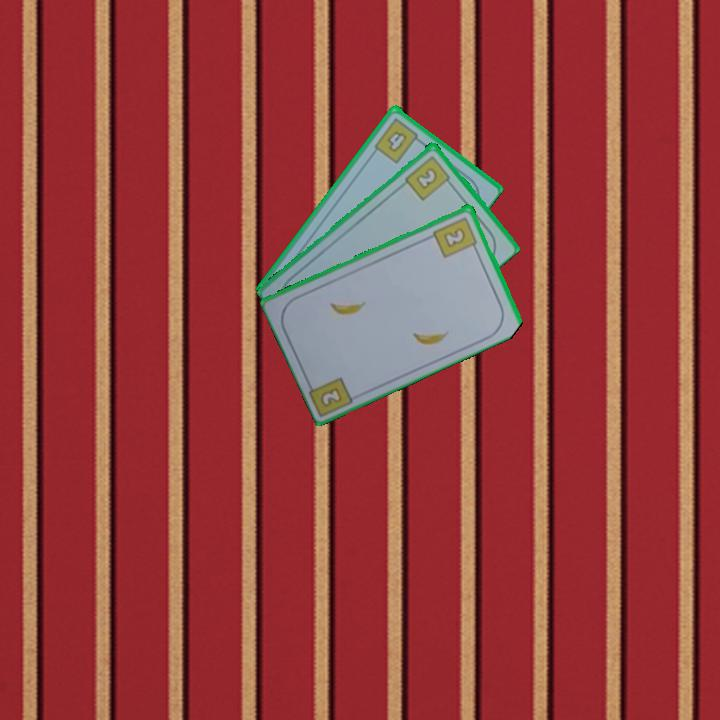2b: (401, 152, 455, 203), (430, 213, 480, 260), (317, 384, 345, 410)
4b: (371, 114, 425, 166)
